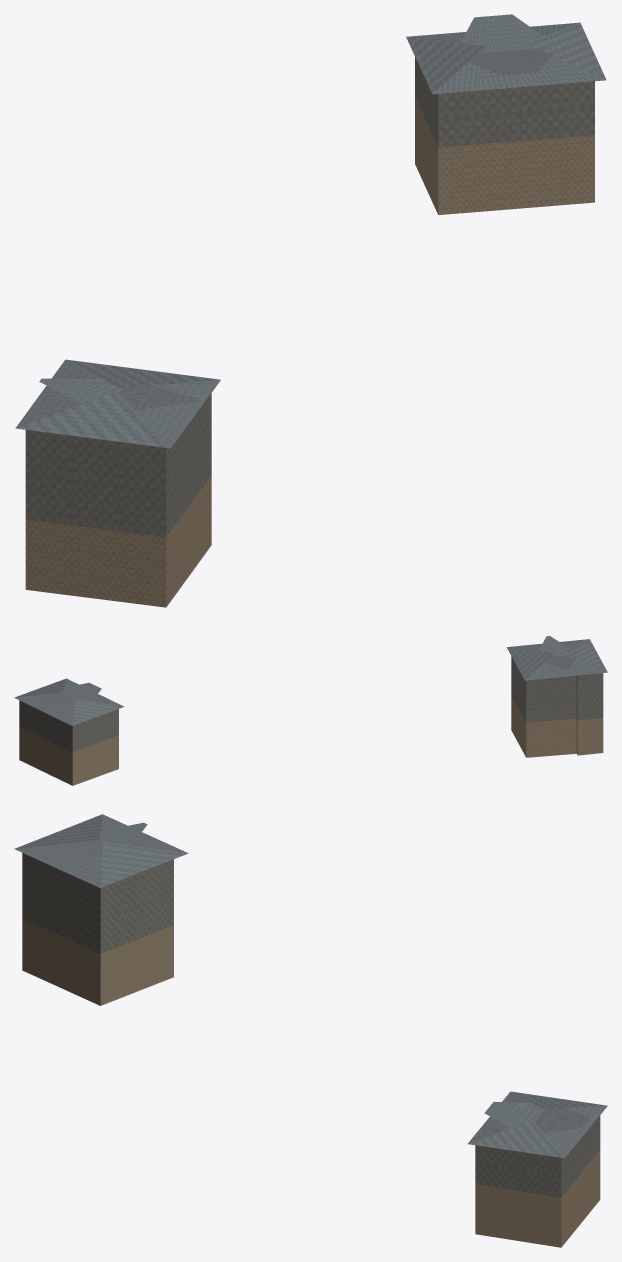
The model's file is bld_c9_6_513.gltf.
3 renders of one model, top to bottom at view 1: azimuth 30°, elevation 25°; view 2: azimuth 150°, elevation 25°; view 3: azimuth 270°, elevation 25°, orthographic. The views are drawn at different scales.
Visible parts, largest first — view 1: bld_c9_6_513; view 2: bld_c9_6_513; view 3: bld_c9_6_513.
Boxes of the visible parts, <box> form: bld_c9_6_513: <box>15,14,606,607</box>; bld_c9_6_513: <box>14,636,607,785</box>; bld_c9_6_513: <box>14,814,607,1247</box>.
Bounding box in the file's own units: 66.25 × 12.8 × 52.39.
Materials: 3 (3 with a texture image).
